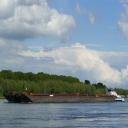tugboat: (105, 89, 126, 104)
